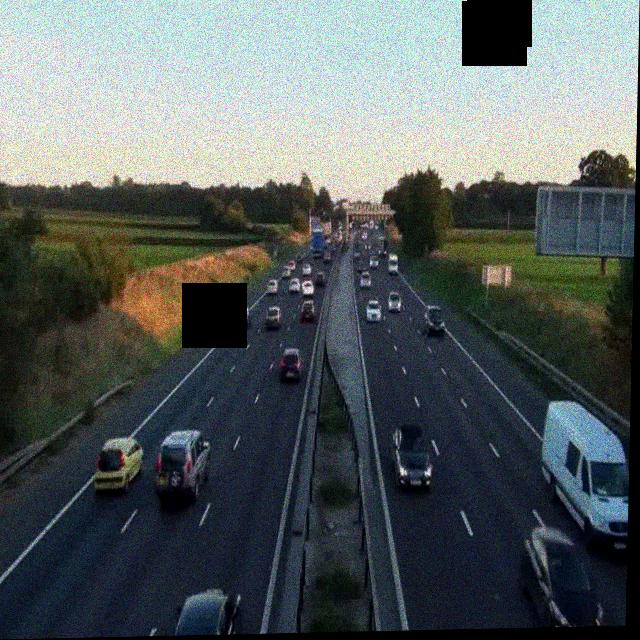car: (520, 522, 607, 628), (154, 430, 211, 505), (160, 588, 241, 636), (390, 422, 433, 490), (94, 436, 144, 493), (279, 349, 303, 382), (423, 304, 445, 336), (265, 305, 282, 329), (234, 306, 251, 329), (301, 295, 316, 319), (366, 299, 382, 321), (387, 292, 401, 314), (358, 271, 371, 290), (291, 278, 304, 295), (266, 280, 279, 296), (314, 271, 325, 287), (285, 260, 296, 275), (356, 260, 367, 273)
truck: (539, 399, 631, 557), (310, 229, 327, 261)
